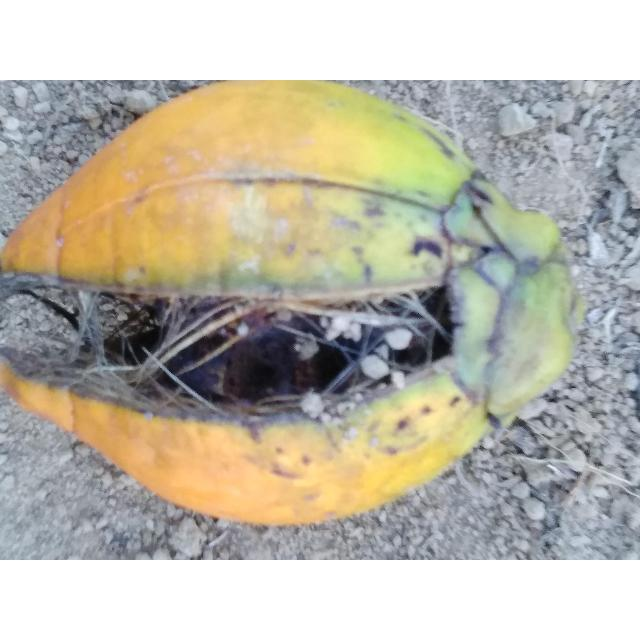damaged: (0, 80, 587, 530)
